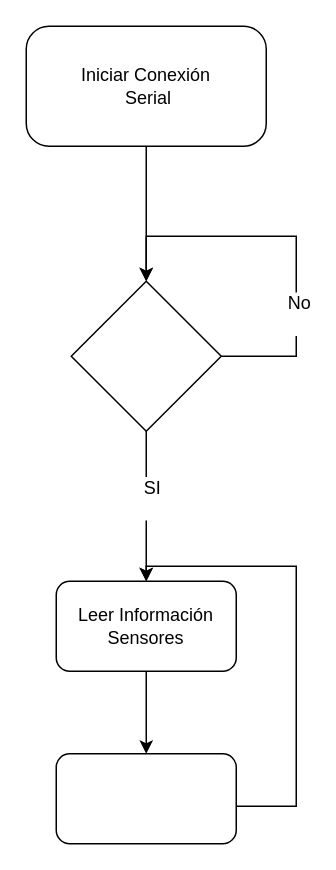
This 336x870 diagram has some shape labels left out. Each missing label, with the centre of its shape:
Enviar por Puerto Serial: the point at 145,798
¿Configurados?: the point at 145,355
